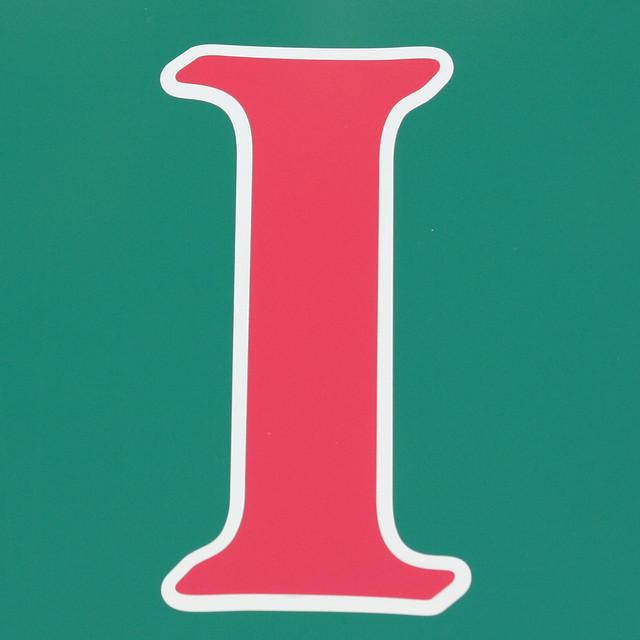I: (110, 12, 505, 632)
